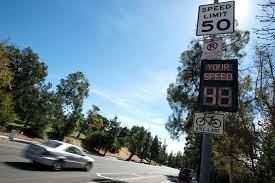speedLimit50: (196, 1, 237, 35)
